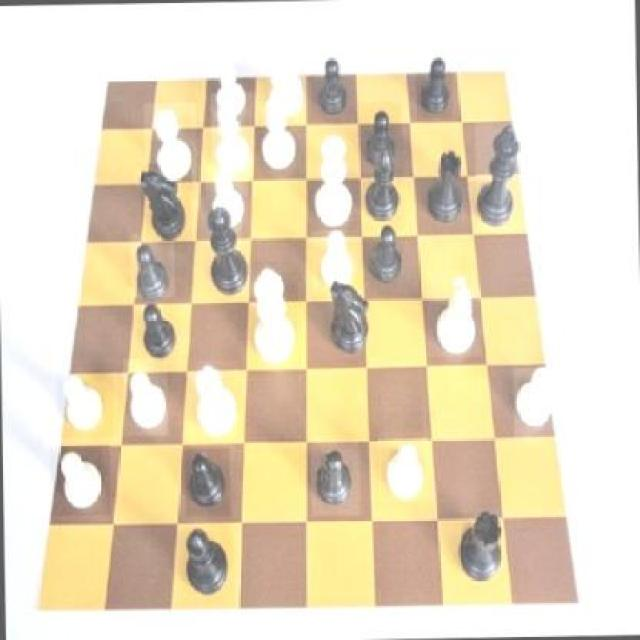bishop: (178, 522, 234, 606), (360, 135, 404, 231)
black-bishop: (475, 122, 531, 230)
black-king: (318, 272, 374, 358), (140, 163, 193, 242)
black-knight: (311, 440, 360, 517), (364, 218, 412, 292), (134, 297, 183, 367), (184, 448, 230, 517), (311, 48, 358, 115), (131, 232, 175, 302), (360, 101, 403, 170), (415, 45, 453, 120)
black-pawn: (197, 195, 253, 298)
black-queen: (452, 504, 508, 594), (422, 143, 471, 228)
black-rook: (256, 79, 300, 176), (210, 92, 254, 178)
white-bishop: (248, 262, 300, 378)
white-king: (428, 270, 483, 358), (257, 30, 308, 121)
white-knight: (50, 446, 111, 517), (57, 371, 114, 438), (377, 432, 429, 503), (311, 221, 360, 294), (123, 359, 169, 436), (512, 368, 562, 438), (208, 50, 254, 126), (206, 166, 249, 234)
white-pawn: (308, 131, 358, 231)
white-queen: (144, 103, 198, 184), (189, 360, 240, 439)
